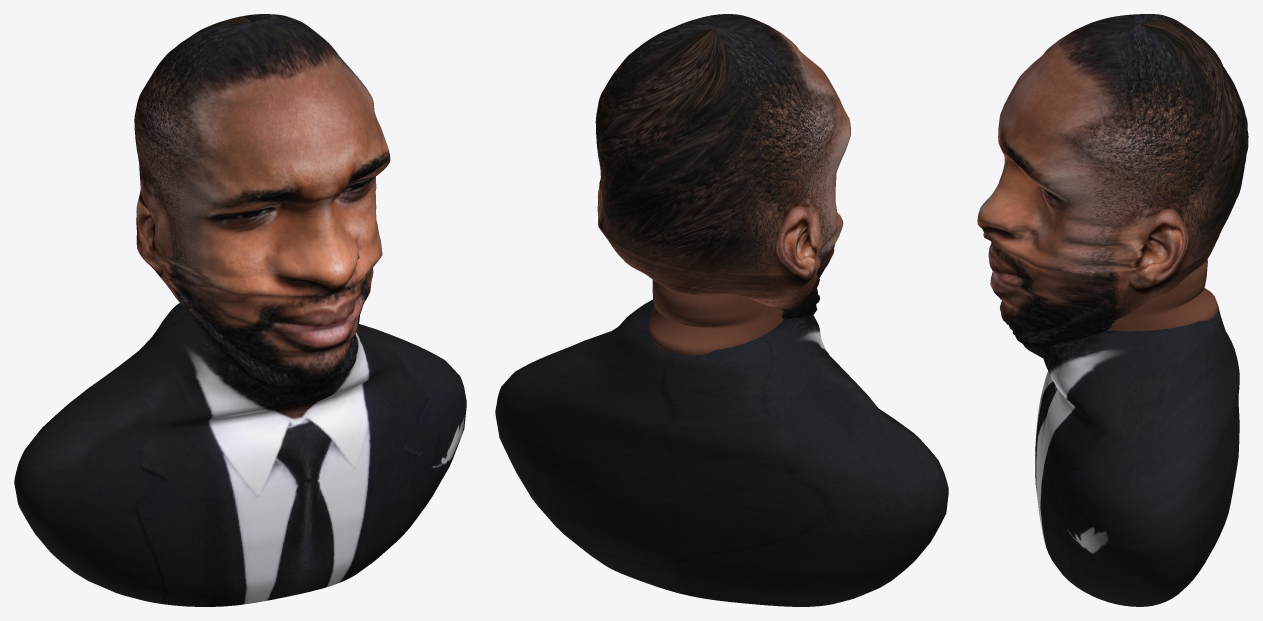
The model's file is okwe-bust.glb.
The picture shows the model from 3 angles, left to right: view 1: azimuth 30°, elevation 25°; view 2: azimuth 150°, elevation 25°; view 3: azimuth 270°, elevation 25°; orthographic projection. The views are drawn at different scales.
Visible parts, largest first — view 1: Okwe David; view 2: Okwe David; view 3: Okwe David.
Part boxes in pixels (left/top/right/bottom): Okwe David: left=14, top=14, right=466, bottom=606; Okwe David: left=495, top=14, right=948, bottom=606; Okwe David: left=977, top=14, right=1248, bottom=606.
Bounding box in the file's own units: 1.66 × 1.96 × 0.9097.
Materials: 1 (1 with a texture image).
